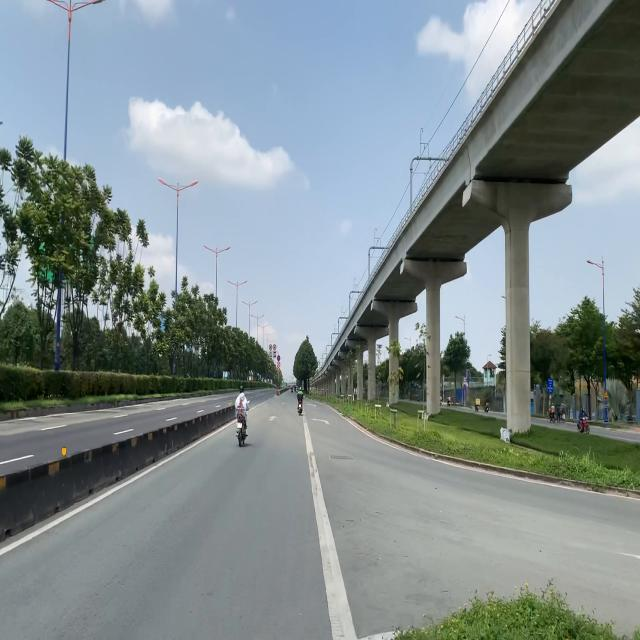Cam dung va do: (277, 355, 280, 361)
Toc do toi da: (273, 344, 276, 351), (269, 344, 272, 351)
